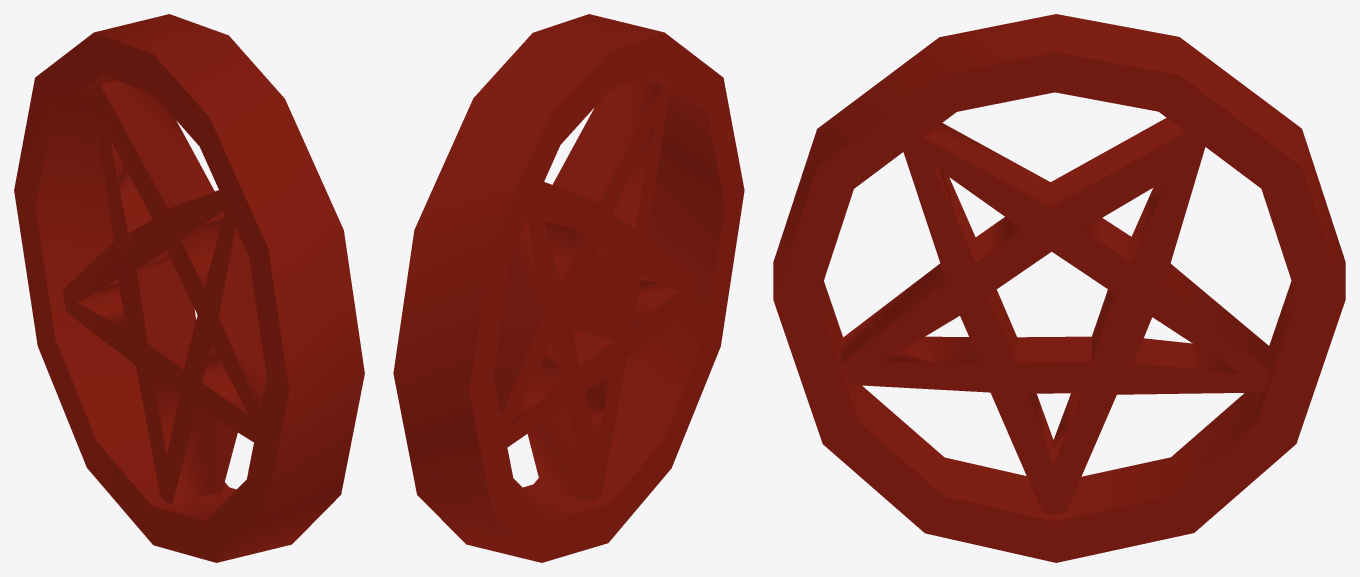
File: pent.glb
3 views of the same model, side by side, from view 1: azimuth 30°, elevation 25°; view 2: azimuth 150°, elevation 25°; view 3: azimuth 270°, elevation 25° (orthographic). The views are drawn at different scales.
Visible parts, largest first — view 1: pent; view 2: pent; view 3: pent.
Part boxes in pixels (box(x1,y1,x2,y2)): pent: box(14, 14, 364, 562); pent: box(393, 14, 744, 562); pent: box(773, 14, 1345, 562).
Bounding box in the file's own units: 5.12 × 31.2 × 31.68.
Materials: 1 (1 with a texture image).
